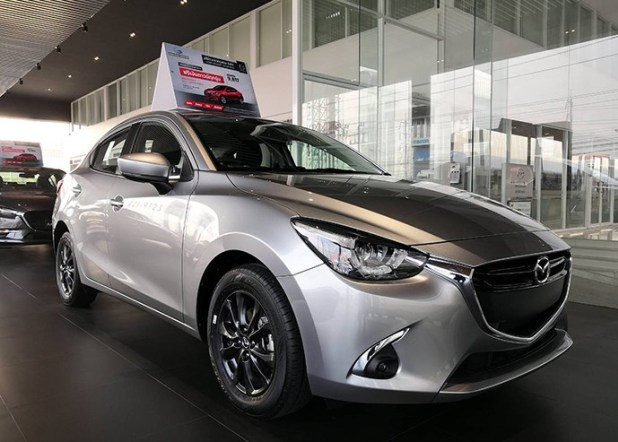sedan: (49, 107, 578, 424)
